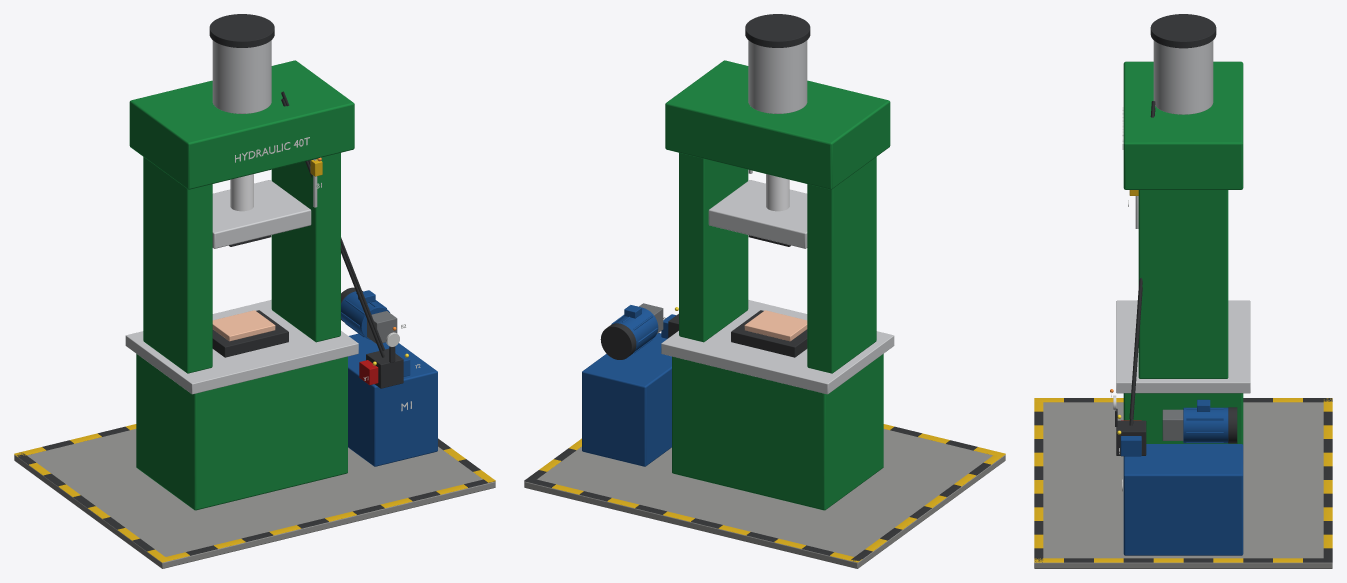
The model's file is machine_hpress.glb.
3 views of the same model, side by side, from view 1: azimuth 30°, elevation 25°; view 2: azimuth 150°, elevation 25°; view 3: azimuth 270°, elevation 25° (orthographic).
Parts seen in each view (by area): view 1: frame, ram_mesh; view 2: frame, ram_mesh; view 3: frame.
Part boxes in pixels (box(x1,y1,x2,y2)): frame: box(14, 14, 495, 568); ram_mesh: box(212, 174, 311, 248); frame: box(524, 14, 1005, 568); ram_mesh: box(708, 174, 807, 248); frame: box(1034, 14, 1332, 568).
Bounding box in the file's own units: 2.6 × 3.35 × 2.
